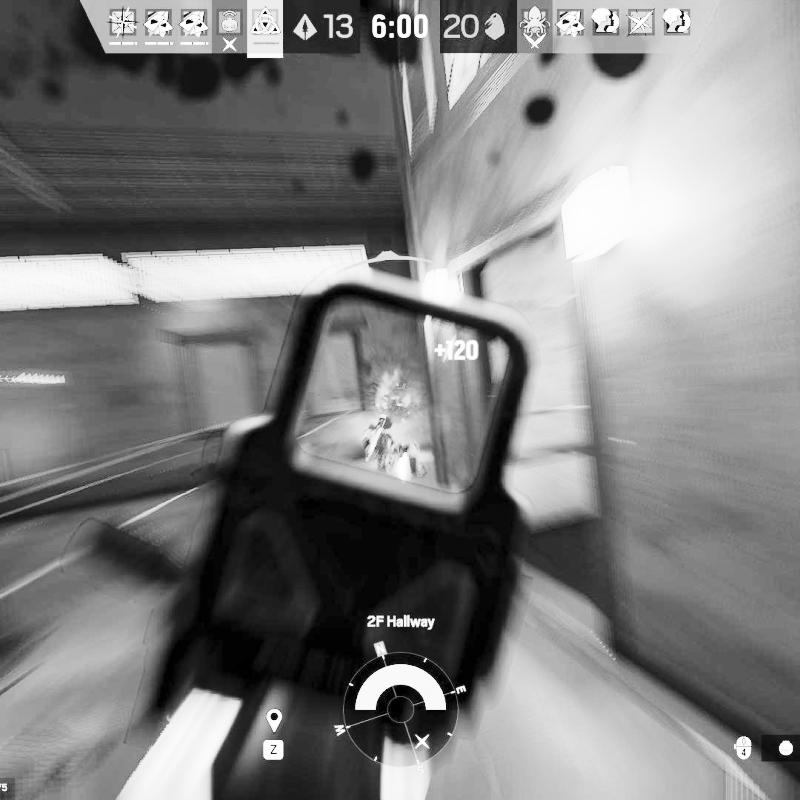Character: (361, 411, 431, 482)
